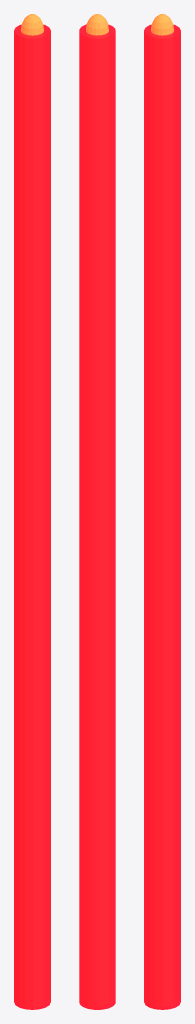
File: laser_red_standard.glb
3 renders of one model, left to right at view 1: azimuth 90°, elevation 25°; view 2: azimuth 150°, elevation 25°; view 3: azimuth 270°, elevation 25°, orthographic.
Parts seen in each view (by area): view 1: laser_red_standard; view 2: laser_red_standard; view 3: laser_red_standard.
Part boxes in pixels (x1,y1,x2,y2): laser_red_standard: (14, 14, 50, 1009); laser_red_standard: (79, 14, 115, 1009); laser_red_standard: (144, 14, 180, 1009).
Bounding box in the file's own units: 0.0825 × 2.44 × 0.0825.
